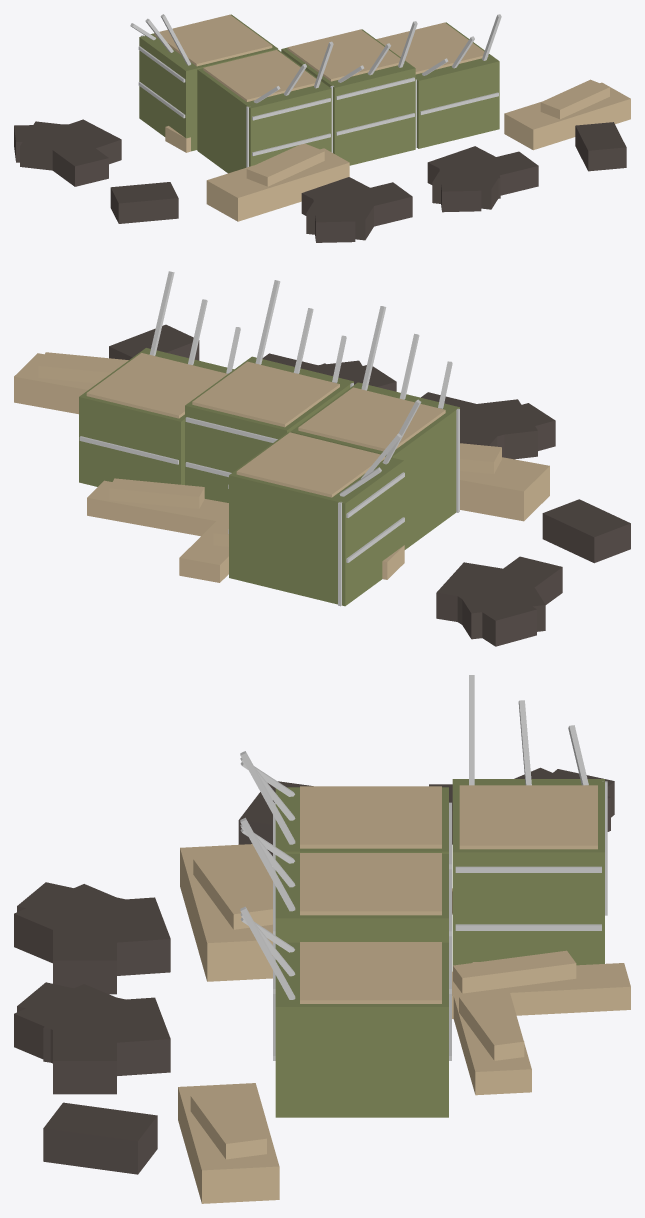
File: SM_HescoRemate_v2_Escalonado_e2_MuyDanado_LOD0.fbx
3 renders of one model, top to bottom at view 1: azimuth 30°, elevation 25°; view 2: azimuth 150°, elevation 25°; view 3: azimuth 270°, elevation 25°, orthographic. The views are drawn at different scales.
Parts seen in each view (by area): view 1: SM_hesco_piezas_v30_LOD0; view 2: SM_hesco_piezas_v30_LOD0; view 3: SM_hesco_piezas_v30_LOD0.
Boxes of the visible parts, x1,y1,x2,y2 form: SM_hesco_piezas_v30_LOD0: (14,14,630,242); SM_hesco_piezas_v30_LOD0: (14,271,630,646); SM_hesco_piezas_v30_LOD0: (14,675,630,1203).
Size of the model in its own units: 6.71 by 1.74 by 4.34.
